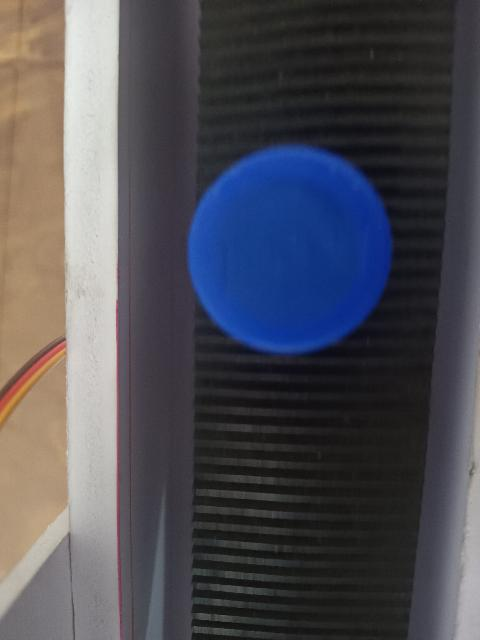bottlecap: (186, 144, 394, 360)
